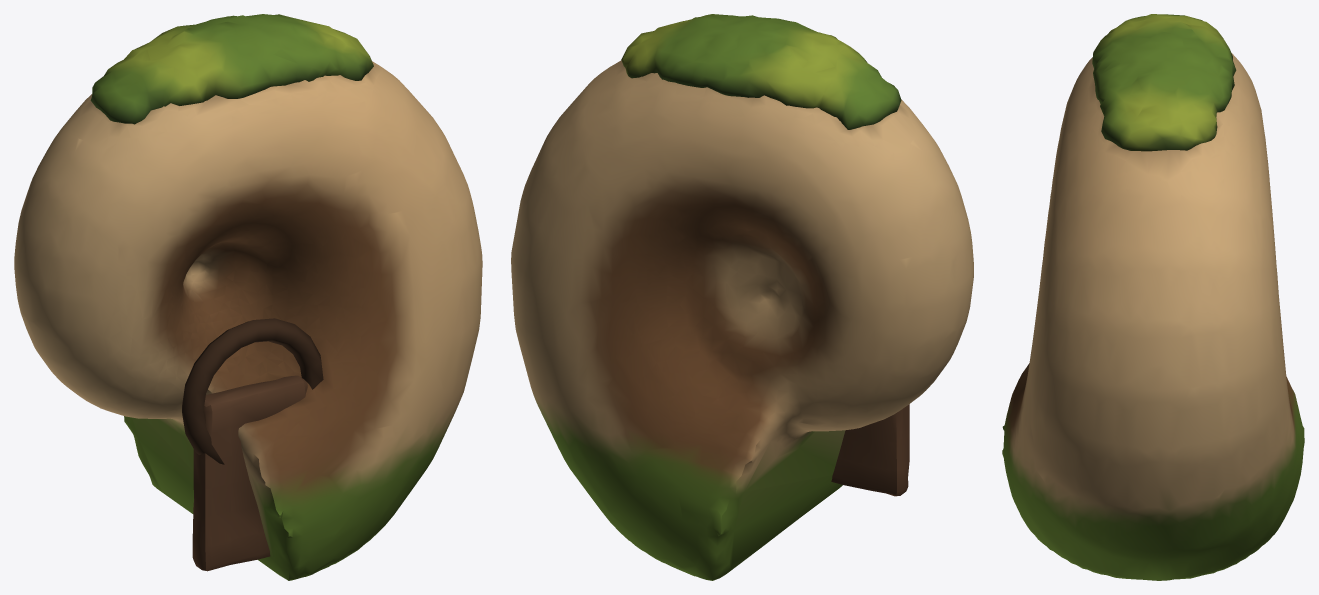
File: mire_snail_shell_b.glb
3 views of the same model, side by side, from view 1: azimuth 30°, elevation 25°; view 2: azimuth 150°, elevation 25°; view 3: azimuth 270°, elevation 25° (orthographic). The views are drawn at different scales.
Visible parts, largest first — view 1: mire_snail_shell_b; view 2: mire_snail_shell_b; view 3: mire_snail_shell_b.
Part boxes in pixels (x1,y1,x2,y2): mire_snail_shell_b: [14, 14, 482, 580]; mire_snail_shell_b: [511, 14, 973, 580]; mire_snail_shell_b: [1002, 14, 1304, 580].
Size of the model in its own units: 8.06 by 8.81 by 5.04.
